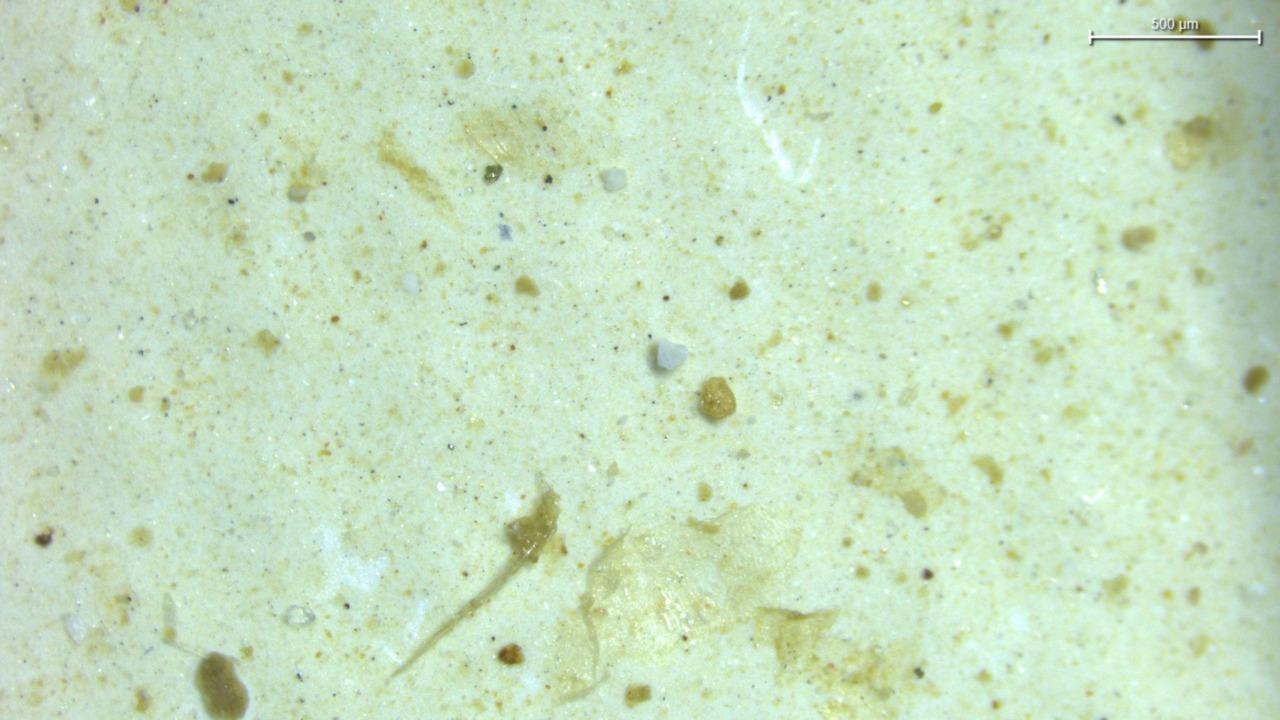microplastic_fragment: (699, 377, 736, 420), (657, 339, 688, 370), (599, 168, 628, 192)
